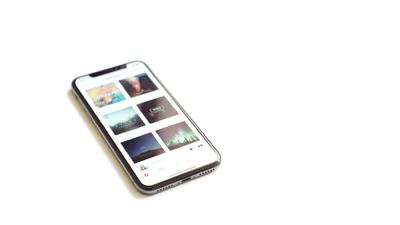cell-phone: (68, 57, 225, 198)
